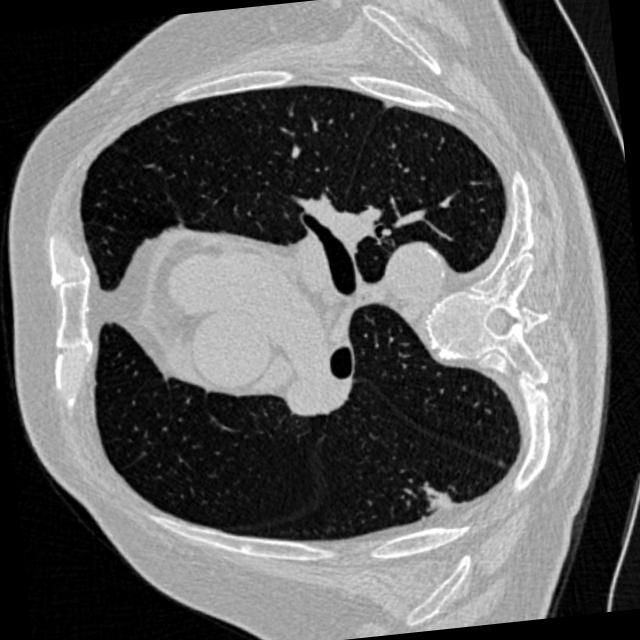nodule: (416, 478, 461, 522)
